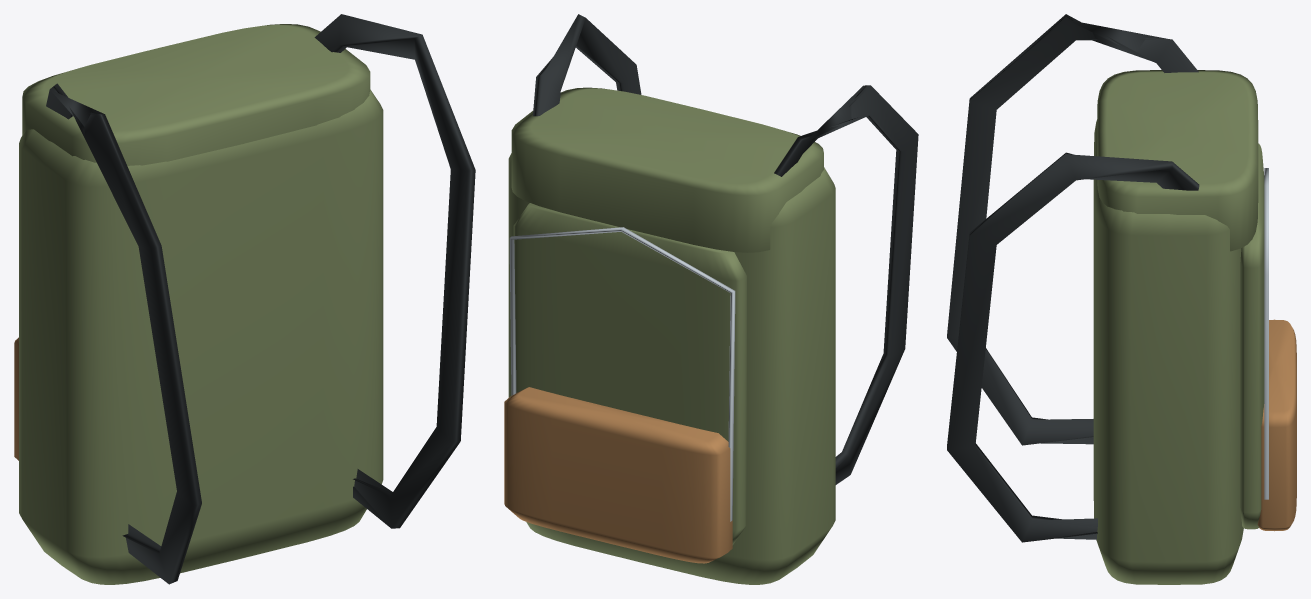
Rendered from 07-rucksack.glb.
3 views of the same model, side by side, from view 1: azimuth 30°, elevation 25°; view 2: azimuth 150°, elevation 25°; view 3: azimuth 270°, elevation 25° (orthographic). The views are drawn at different scales.
Visible parts, largest first — view 1: 07-rucksack; view 2: 07-rucksack; view 3: 07-rucksack.
Boxes of the visible parts, left/top/right/bottom form: 07-rucksack: left=14, top=14, right=475, bottom=584; 07-rucksack: left=504, top=14, right=918, bottom=584; 07-rucksack: left=947, top=14, right=1296, bottom=584.
Bounding box in the file's own units: 0.3137 × 0.4428 × 0.3185.
